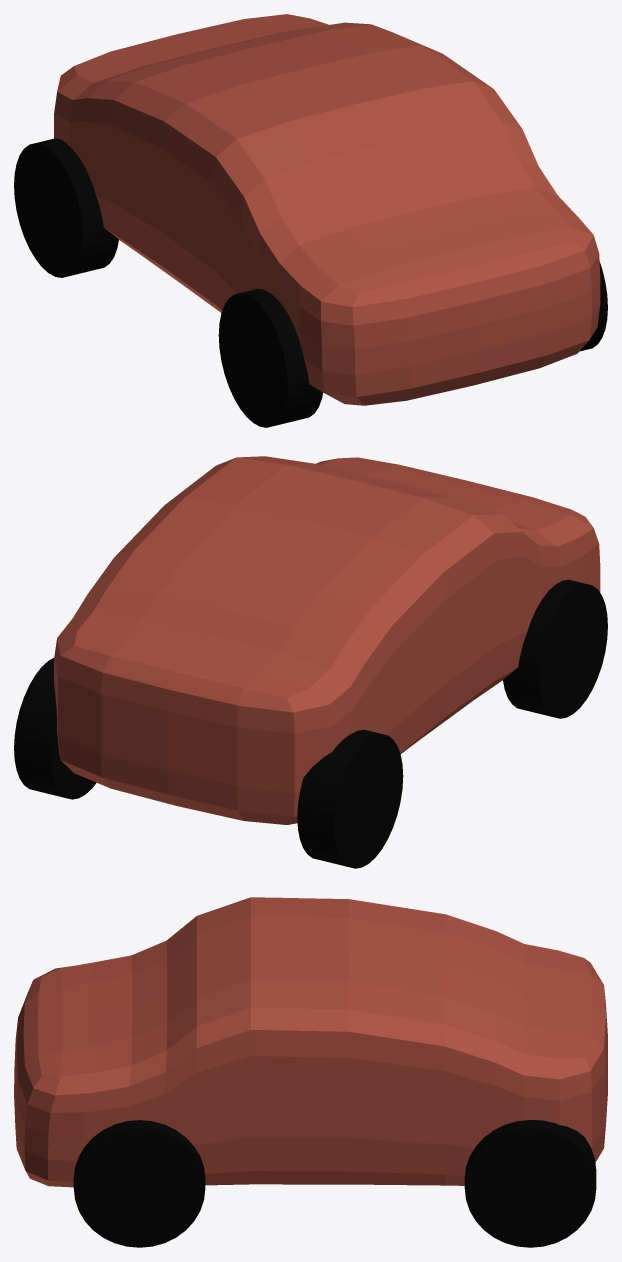
File: car.fbx
3 renders of one model, top to bottom at view 1: azimuth 30°, elevation 25°; view 2: azimuth 150°, elevation 25°; view 3: azimuth 270°, elevation 25°, orthographic. The views are drawn at different scales.
Parts seen in each view (by area): view 1: Cube, Cylinder; view 2: Cube, Cylinder; view 3: Cube, Cylinder.
Boxes of the visible parts, bbox=[...] form: Cube: bbox=[54, 14, 600, 405]; Cylinder: bbox=[14, 138, 607, 427]; Cube: bbox=[54, 456, 600, 824]; Cylinder: bbox=[14, 579, 607, 868]; Cube: bbox=[14, 897, 607, 1187]; Cylinder: bbox=[73, 1120, 596, 1247].
Bounding box in the file's own units: 81.9 × 57.87 × 138.
